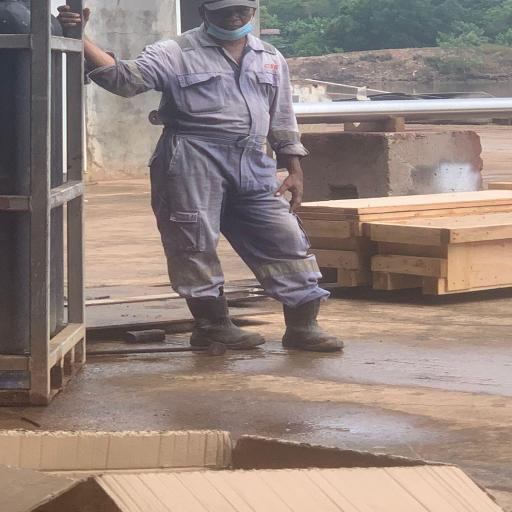safety_shoe: (176, 290, 266, 349), (282, 292, 345, 352)
